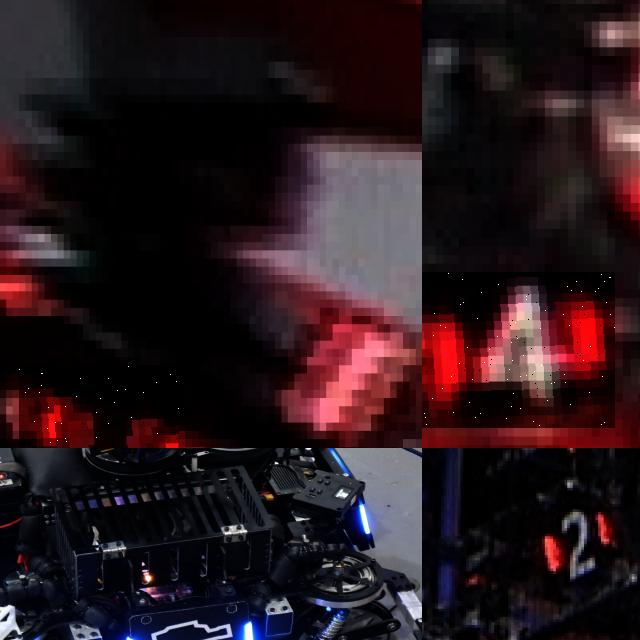Bs: (125, 603, 258, 640)
R1: (19, 365, 179, 448)
R2: (542, 506, 618, 584)
R4: (422, 272, 615, 427)
